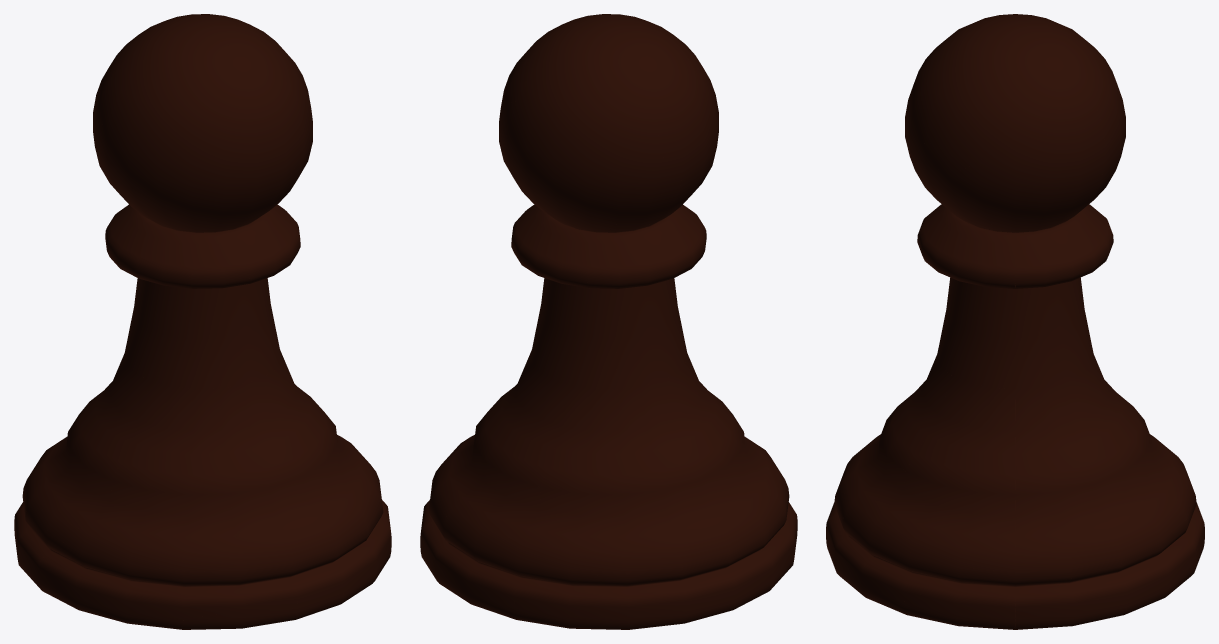
3 renders of one model, left to right at view 1: azimuth 30°, elevation 25°; view 2: azimuth 150°, elevation 25°; view 3: azimuth 270°, elevation 25°, orthographic.
Visible parts, largest first — view 1: PEDONE12; view 2: PEDONE12; view 3: PEDONE12.
Boxes of the visible parts, box(x1,y1,x2,y2) form: PEDONE12: box(14, 14, 391, 629); PEDONE12: box(420, 14, 797, 629); PEDONE12: box(826, 14, 1204, 629).
Size of the model in its own units: 136 by 210 by 136.
